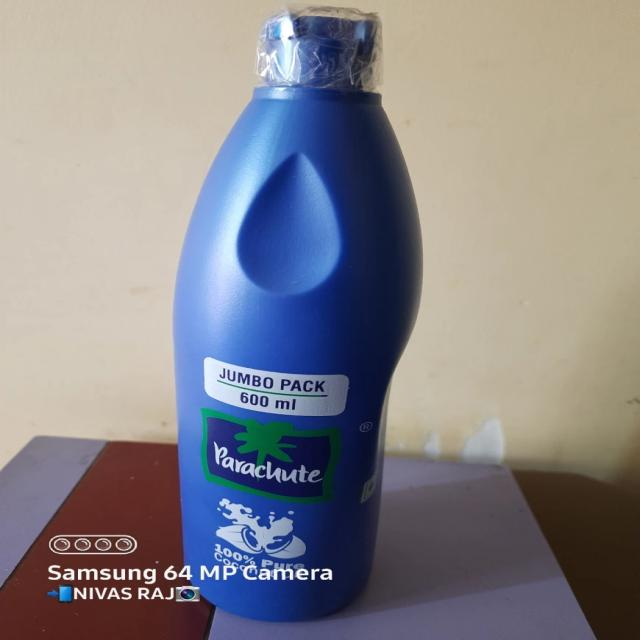parachute_oil: (164, 9, 440, 614)
